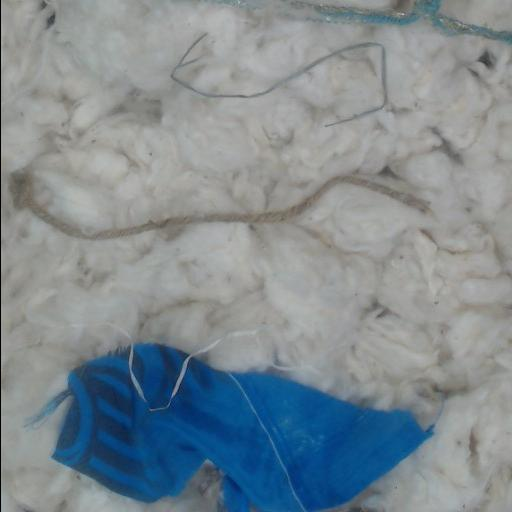cloth: (33, 344, 434, 511), (309, 0, 512, 45)
cotton: (1, 0, 512, 511), (442, 0, 512, 29), (316, 0, 398, 9)
jute: (21, 174, 429, 239)
thread: (171, 36, 387, 126), (229, 374, 288, 479), (149, 338, 220, 409), (129, 344, 144, 399), (290, 484, 304, 511), (226, 330, 256, 335)
